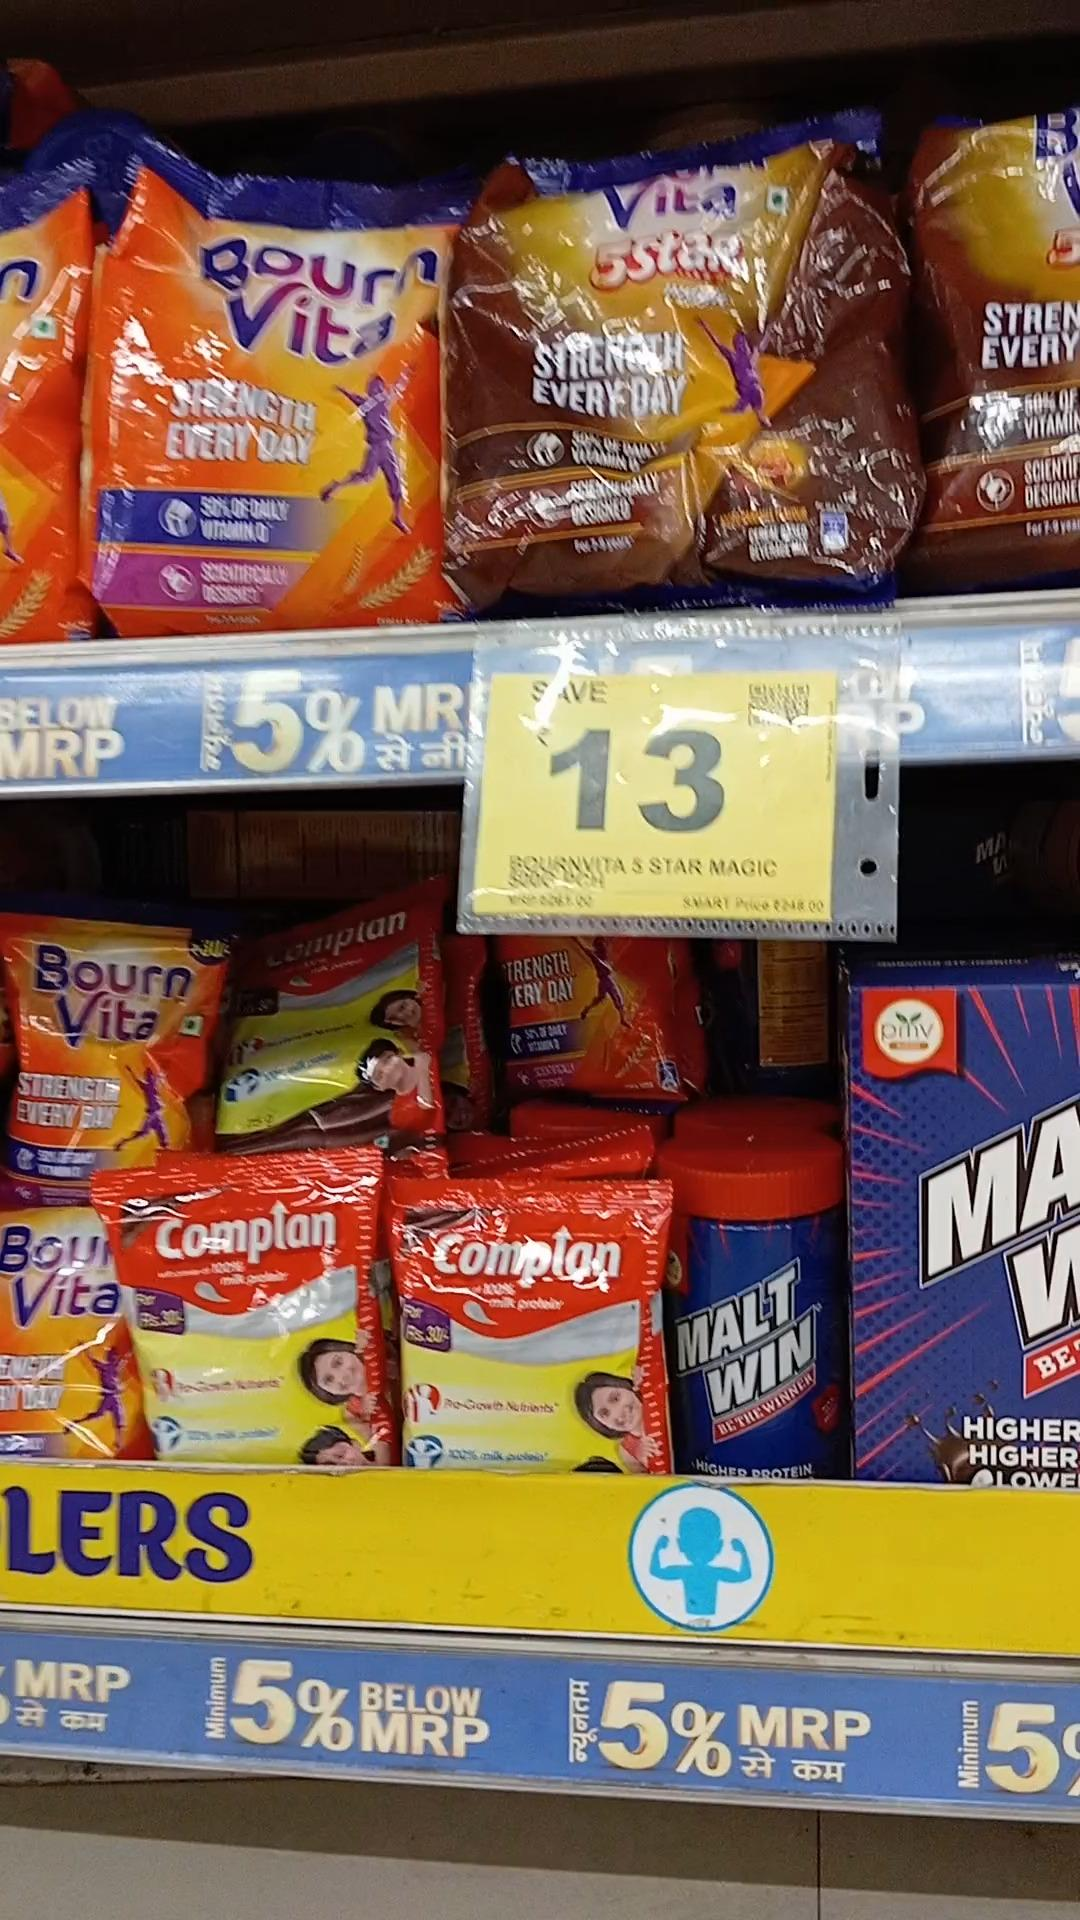BOURN_VITA_500_G_POUCH: (82, 133, 444, 622)
BOURN_VITA_FIVE_STAR_MAGIC_500_G_POUCH: (452, 141, 911, 603)
